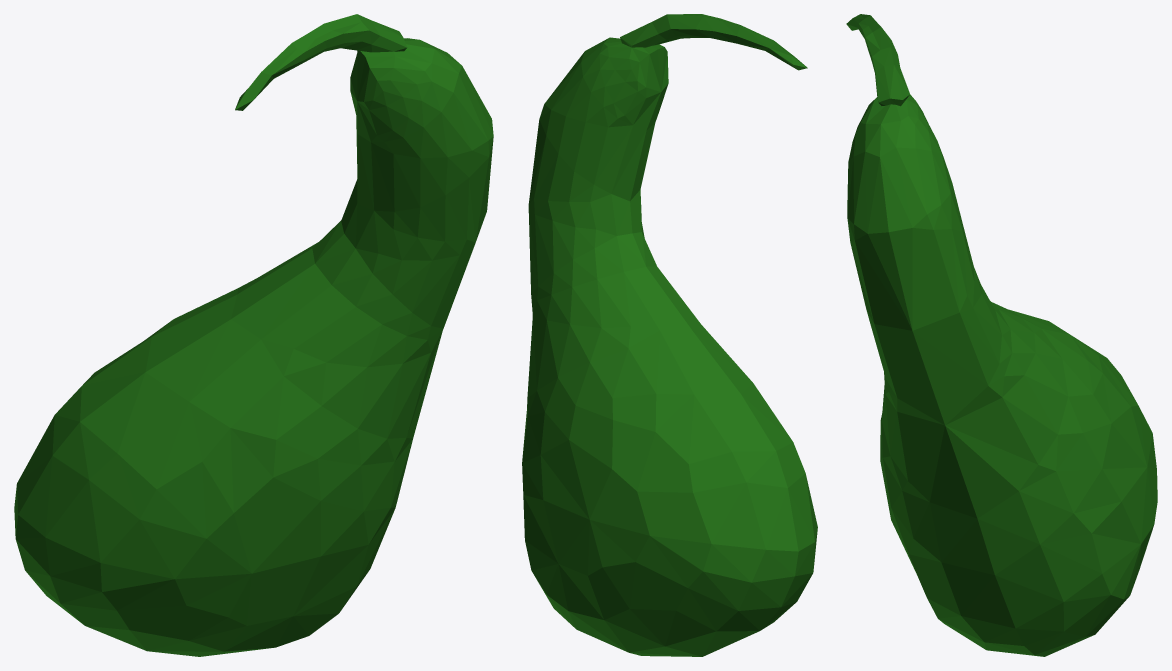
Rendered from gourd.obj.
3 views of the same model, side by side, from view 1: azimuth 30°, elevation 25°; view 2: azimuth 150°, elevation 25°; view 3: azimuth 270°, elevation 25° (orthographic). The views are drawn at different scales.
Visible parts, largest first — view 1: gourd; view 2: gourd; view 3: gourd.
Boxes of the visible parts, x1,y1,x2,y2 form: gourd: [14, 14, 493, 656]; gourd: [522, 14, 817, 656]; gourd: [846, 14, 1157, 656].
Size of the model in its own units: 1.91 by 3.18 by 1.44.
